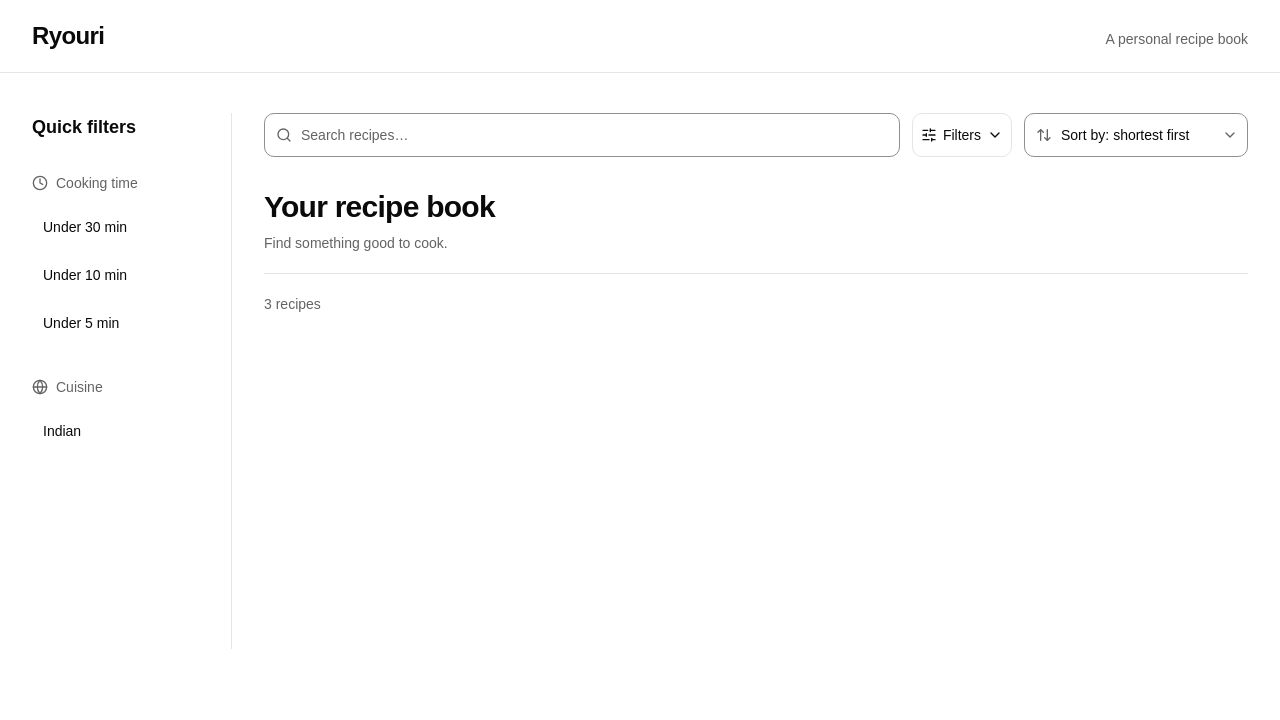
Test: local title search ignores case and surrounding spaces without new requests
Type " SALAD " into the search field named "Search recipes by title".
click(582, 135); type(" SALAD ")  # box [264, 113, 900, 157]
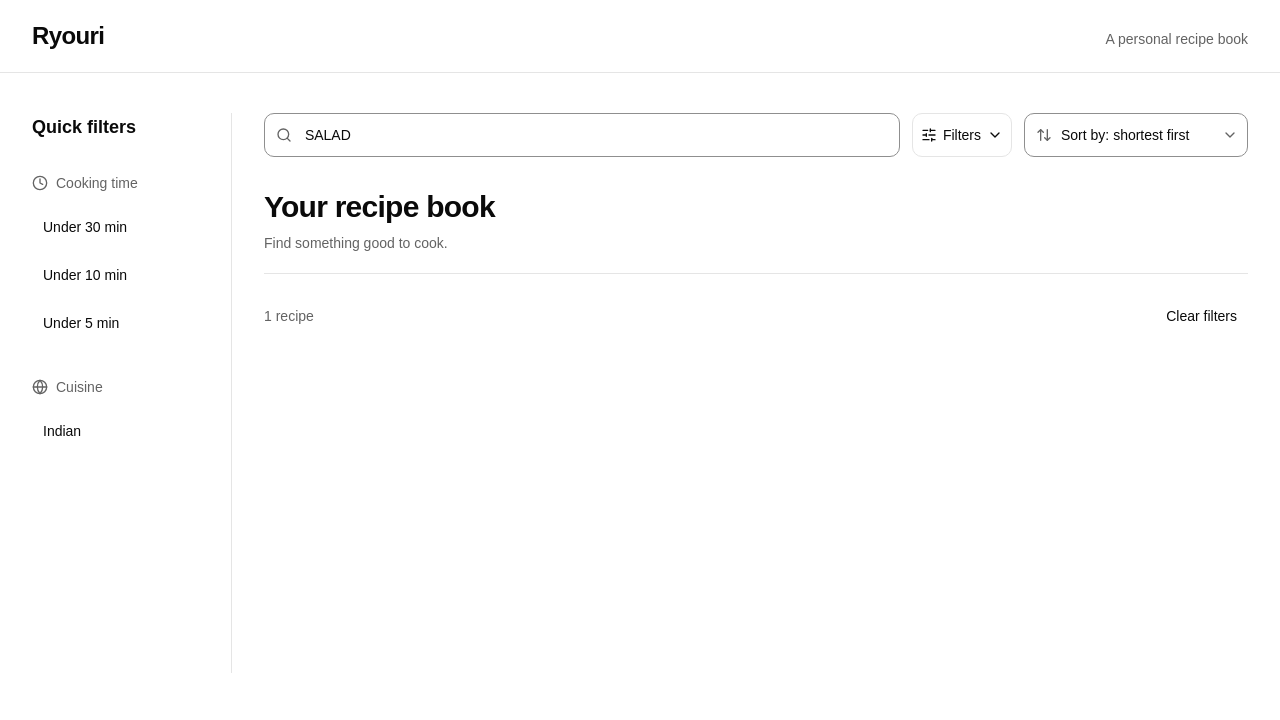
Check: the link "Quick Rice" is not shown
Replace the text in the search field named "Search recipes by title" with "missing" at (582,135), box [264, 113, 900, 157]
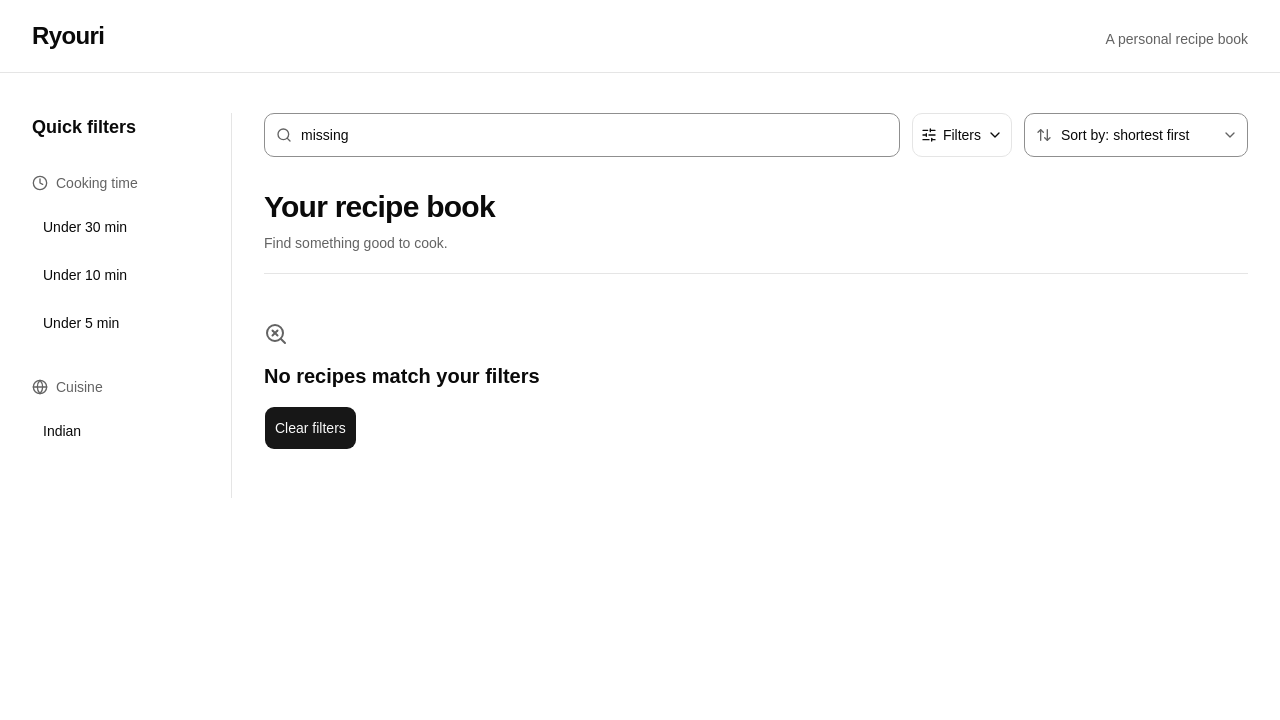
Check: the heading "No recipes match your filters" is shown, box [264, 365, 540, 387]
Click the button "Clear filters".
click(310, 428)  # box [264, 406, 357, 450]
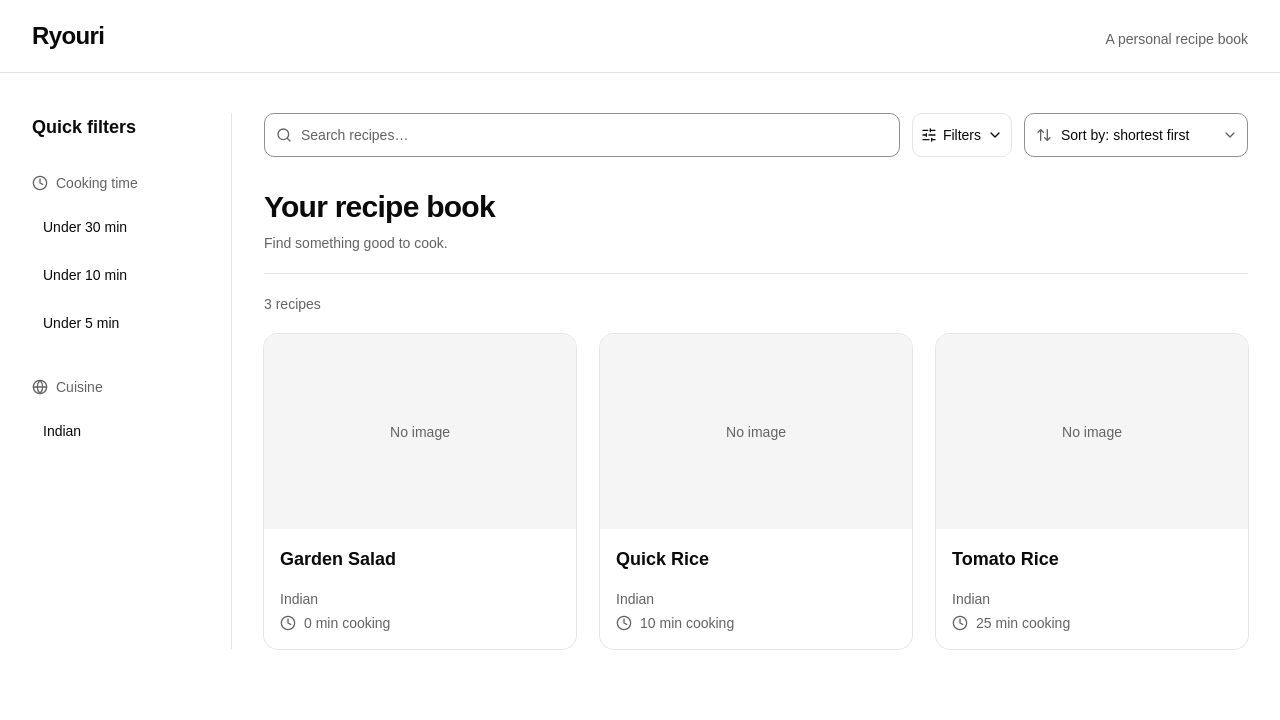
Check: the link "No image Tomato Rice" is shown, box [936, 334, 1248, 589]
